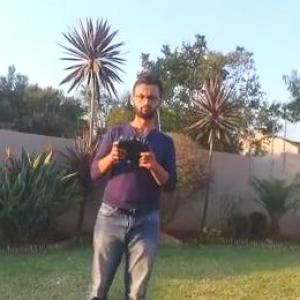follow: (73, 62, 181, 299)
